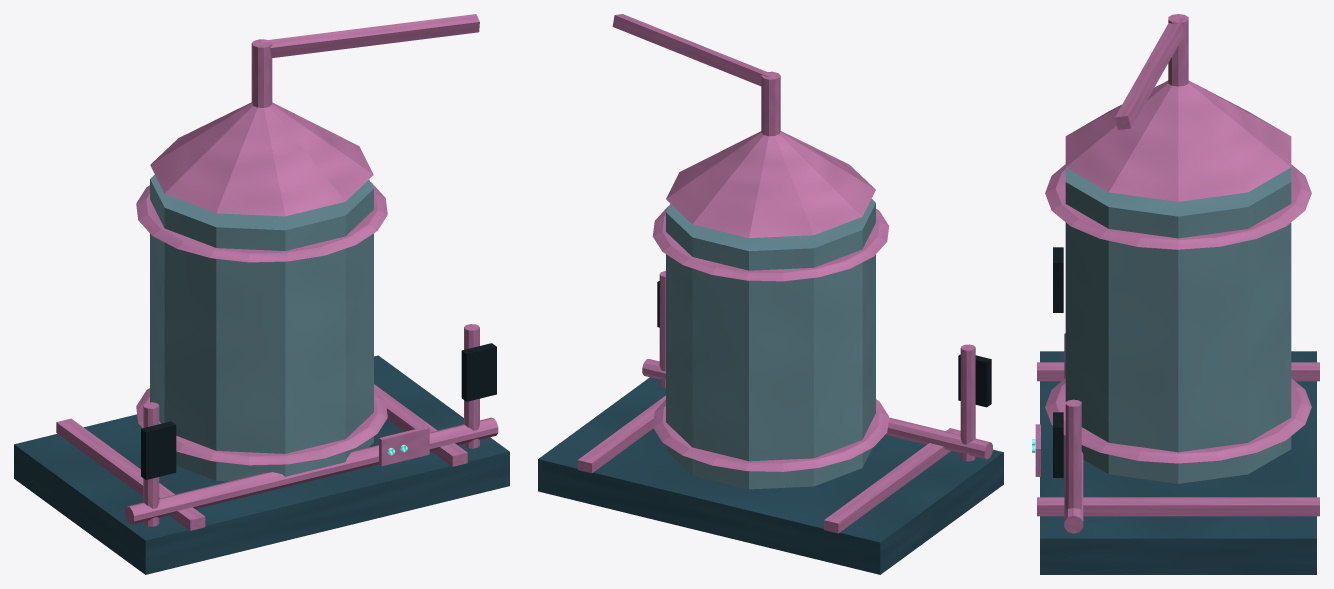
The model's file is atlas100-s067-a02.glb.
The picture shows the model from 3 angles, left to right: view 1: azimuth 30°, elevation 25°; view 2: azimuth 150°, elevation 25°; view 3: azimuth 270°, elevation 25°; orthographic projection. The views are drawn at different scales.
Visible parts, largest first — view 1: atlas100-s067-a02:part-003, atlas100-s067-a02:part-000, atlas100-s067-a02:part-007, atlas100-s067-a02:part-014, atlas100-s067-a02:part-005, atlas100-s067-a02:part-009, atlas100-s067-a02:part-004, atlas100-s067-a02:part-001, atlas100-s067-a02:part-013, atlas100-s067-a02:part-011, atlas100-s067-a02:part-002, atlas100-s067-a02:part-008 (+3 smaller); view 2: atlas100-s067-a02:part-003, atlas100-s067-a02:part-000, atlas100-s067-a02:part-007, atlas100-s067-a02:part-005, atlas100-s067-a02:part-004, atlas100-s067-a02:part-001, atlas100-s067-a02:part-009, atlas100-s067-a02:part-014, atlas100-s067-a02:part-002, atlas100-s067-a02:part-010, atlas100-s067-a02:part-008, atlas100-s067-a02:part-011 (+1 smaller); view 3: atlas100-s067-a02:part-003, atlas100-s067-a02:part-000, atlas100-s067-a02:part-007, atlas100-s067-a02:part-002, atlas100-s067-a02:part-005, atlas100-s067-a02:part-004, atlas100-s067-a02:part-009, atlas100-s067-a02:part-012, atlas100-s067-a02:part-001, atlas100-s067-a02:part-008, atlas100-s067-a02:part-014, atlas100-s067-a02:part-011 (+1 smaller).
Boxes of the visible parts, <box> form: atlas100-s067-a02:part-003: <box>150,174,373,481</box>; atlas100-s067-a02:part-000: <box>14,355,509,574</box>; atlas100-s067-a02:part-007: <box>150,102,373,216</box>; atlas100-s067-a02:part-014: <box>125,417,498,524</box>; atlas100-s067-a02:part-005: <box>136,182,387,262</box>; atlas100-s067-a02:part-009: <box>260,14,479,57</box>; atlas100-s067-a02:part-004: <box>136,388,387,465</box>; atlas100-s067-a02:part-001: <box>56,418,205,530</box>; atlas100-s067-a02:part-013: <box>461,343,496,401</box>; atlas100-s067-a02:part-011: <box>141,421,176,479</box>; atlas100-s067-a02:part-002: <box>374,384,467,466</box>; atlas100-s067-a02:part-008: <box>251,39,272,107</box>; atlas100-s067-a02:part-003: <box>666,199,875,489</box>; atlas100-s067-a02:part-000: <box>538,377,1003,574</box>; atlas100-s067-a02:part-007: <box>666,131,875,237</box>; atlas100-s067-a02:part-005: <box>652,206,889,281</box>; atlas100-s067-a02:part-004: <box>653,399,888,472</box>; atlas100-s067-a02:part-001: <box>824,428,960,533</box>; atlas100-s067-a02:part-009: <box>612,14,768,86</box>; atlas100-s067-a02:part-014: <box>642,359,992,459</box>; atlas100-s067-a02:part-002: <box>577,395,665,473</box>; atlas100-s067-a02:part-010: <box>960,344,975,461</box>; atlas100-s067-a02:part-008: <box>761,71,780,136</box>; atlas100-s067-a02:part-011: <box>958,354,991,407</box>; atlas100-s067-a02:part-003: <box>1065,167,1291,483</box>; atlas100-s067-a02:part-000: <box>1040,351,1316,574</box>; atlas100-s067-a02:part-007: <box>1065,80,1291,201</box>; atlas100-s067-a02:part-002: <box>1037,497,1319,516</box>; atlas100-s067-a02:part-005: <box>1045,164,1311,249</box>; atlas100-s067-a02:part-004: <box>1045,378,1311,463</box>; atlas100-s067-a02:part-009: <box>1115,18,1184,129</box>; atlas100-s067-a02:part-012: <box>1065,399,1081,509</box>; atlas100-s067-a02:part-001: <box>1037,362,1319,381</box>; atlas100-s067-a02:part-008: <box>1168,14,1188,86</box>; atlas100-s067-a02:part-014: <box>1064,333,1083,533</box>; atlas100-s067-a02:part-011: <box>1053,247,1063,312</box>.
Bounding box in the file's own units: 2.95 × 3.32 × 1.87.
Materials: 5 (5 with a texture image).
